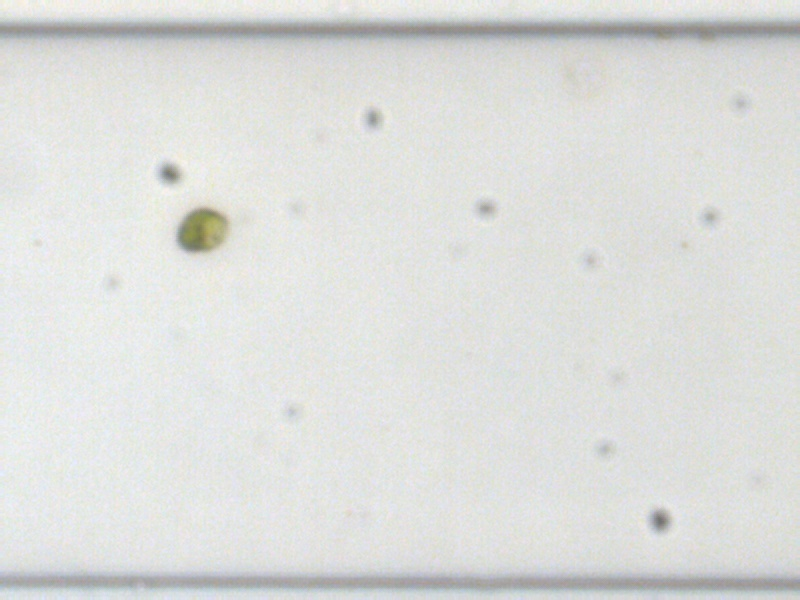Platymonas: (173, 206, 233, 252)
